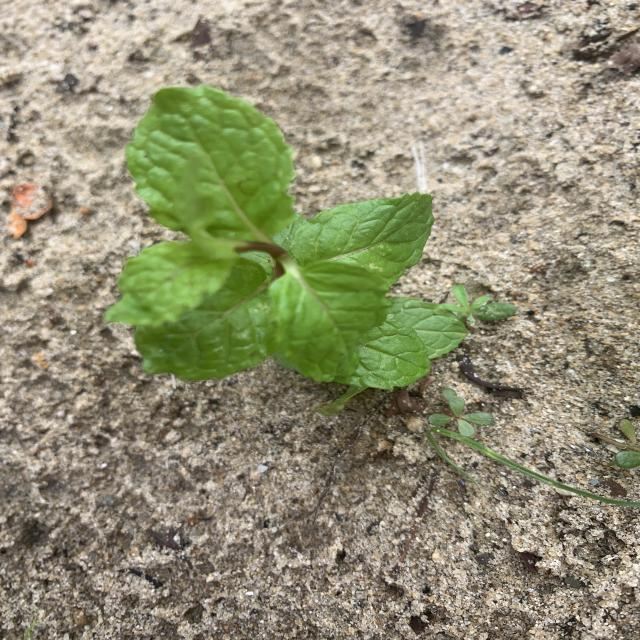crop: (105, 86, 466, 392)
weed: (427, 426, 640, 508), (447, 285, 518, 327), (441, 388, 494, 437), (590, 420, 640, 469), (429, 413, 451, 428)
